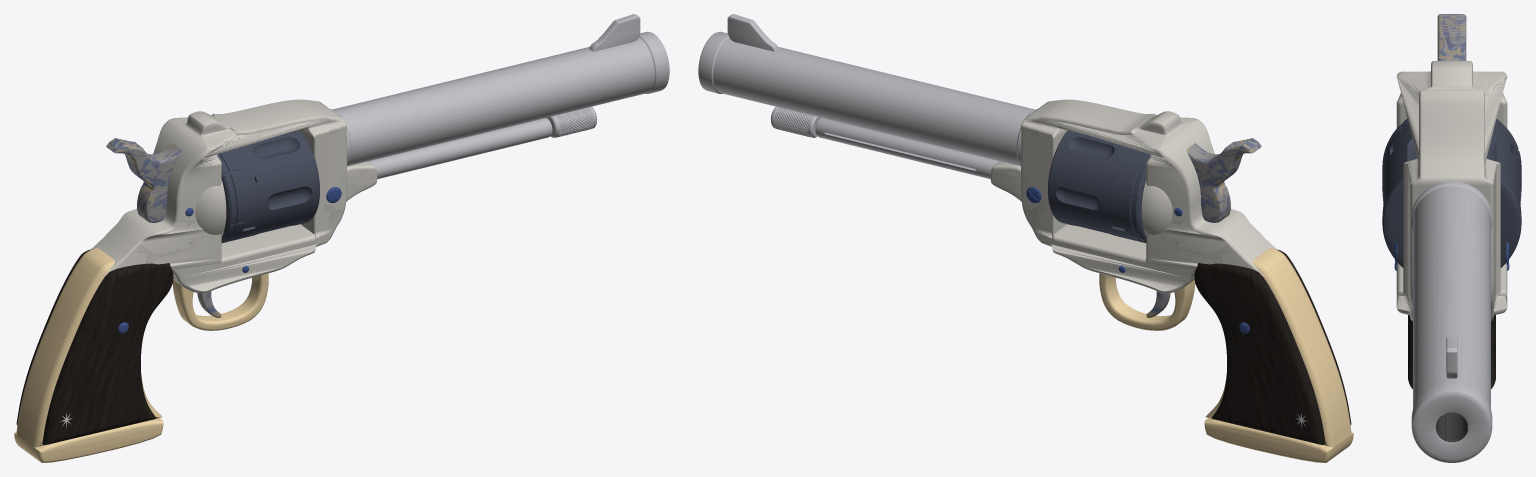
File: Revolver.glb
The picture shows the model from 3 angles, left to right: view 1: azimuth 30°, elevation 25°; view 2: azimuth 150°, elevation 25°; view 3: azimuth 270°, elevation 25°; orthographic projection. The views are drawn at different scales.
Visible parts, largest first — view 1: Body, Cylinder_mesh, Hammer_mesh; view 2: Body, Cylinder_mesh, Hammer_mesh; view 3: Body, Cylinder_mesh, Hammer_mesh.
Part boxes in pixels (x1,y1,x2,y2): Body: [14, 14, 669, 462]; Cylinder_mesh: [217, 130, 319, 243]; Hammer_mesh: [106, 138, 181, 222]; Body: [698, 14, 1353, 462]; Cylinder_mesh: [1048, 130, 1150, 243]; Hammer_mesh: [1186, 138, 1261, 222]; Body: [1394, 61, 1509, 462]; Cylinder_mesh: [1382, 118, 1521, 267]; Hammer_mesh: [1437, 14, 1466, 60].
Size of the model in its own units: 0.3304 by 0.1498 by 0.0476.
10 materials, 6 textured.
